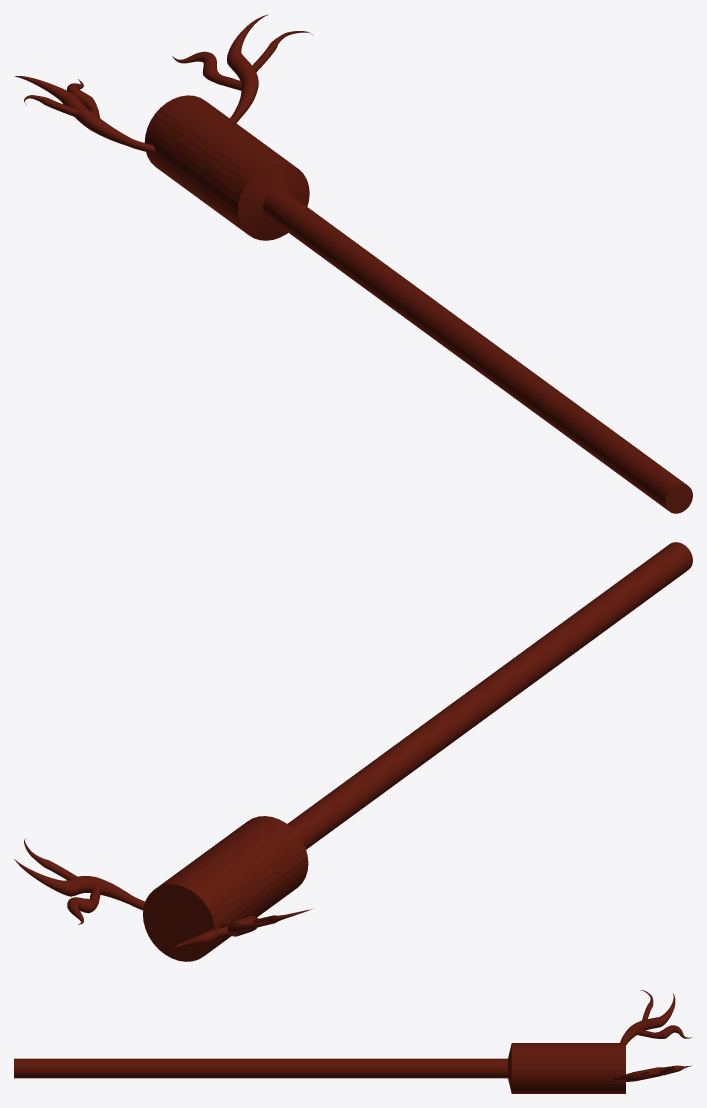
The model's file is SM_Broomstick.fbx.
The picture shows the model from 3 angles, top to bottom: view 1: azimuth 30°, elevation 25°; view 2: azimuth 150°, elevation 25°; view 3: azimuth 270°, elevation 25°; orthographic projection. The views are drawn at different scales.
Parts seen in each view (by area): view 1: Broomstick; view 2: Broomstick; view 3: Broomstick.
Part boxes in pixels (x1=…): Broomstick: x1=14, y1=14, x2=692, y2=513; Broomstick: x1=14, y1=542, x2=692, y2=961; Broomstick: x1=14, y1=990, x2=692, y2=1093.
Size of the model in its own units: 45.7 by 15.03 by 153.
